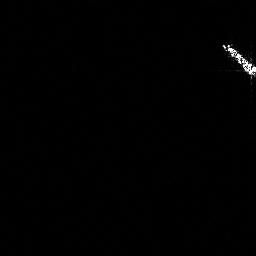ship: (218, 39, 256, 83)
